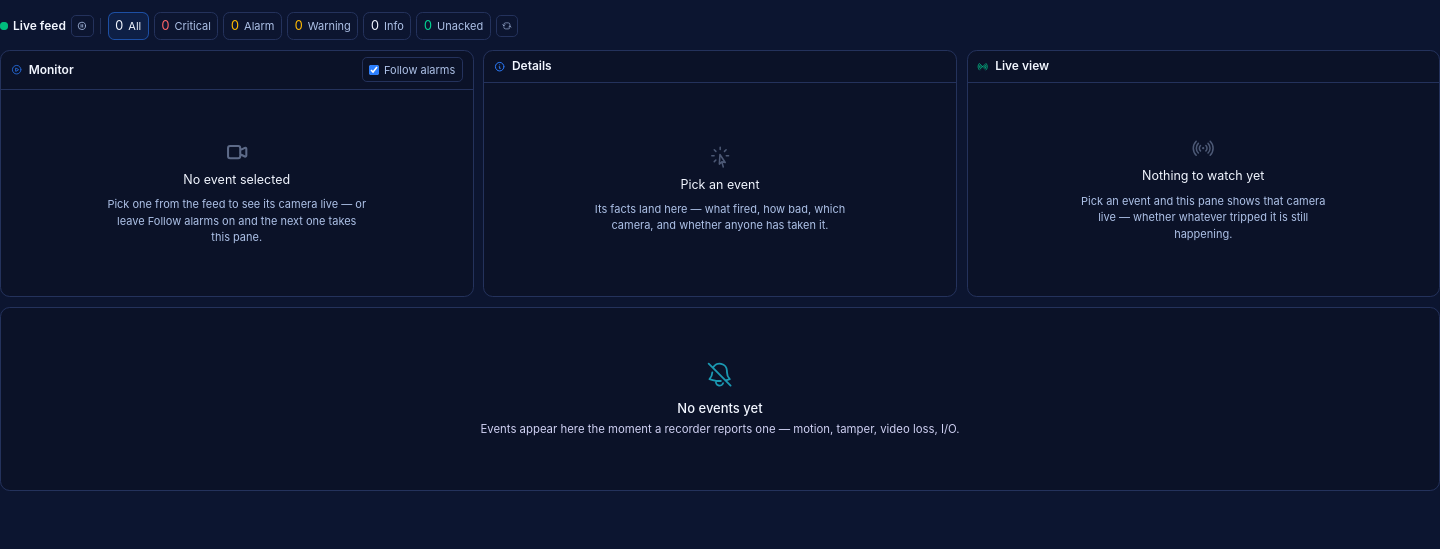
an empty feed › says the filters are hiding things, and offers to clear them
Expected: the text "Live feed" is shown, [13,17,66,35]
Click the button "0 Critical": (186, 26) [154,12,218,40]
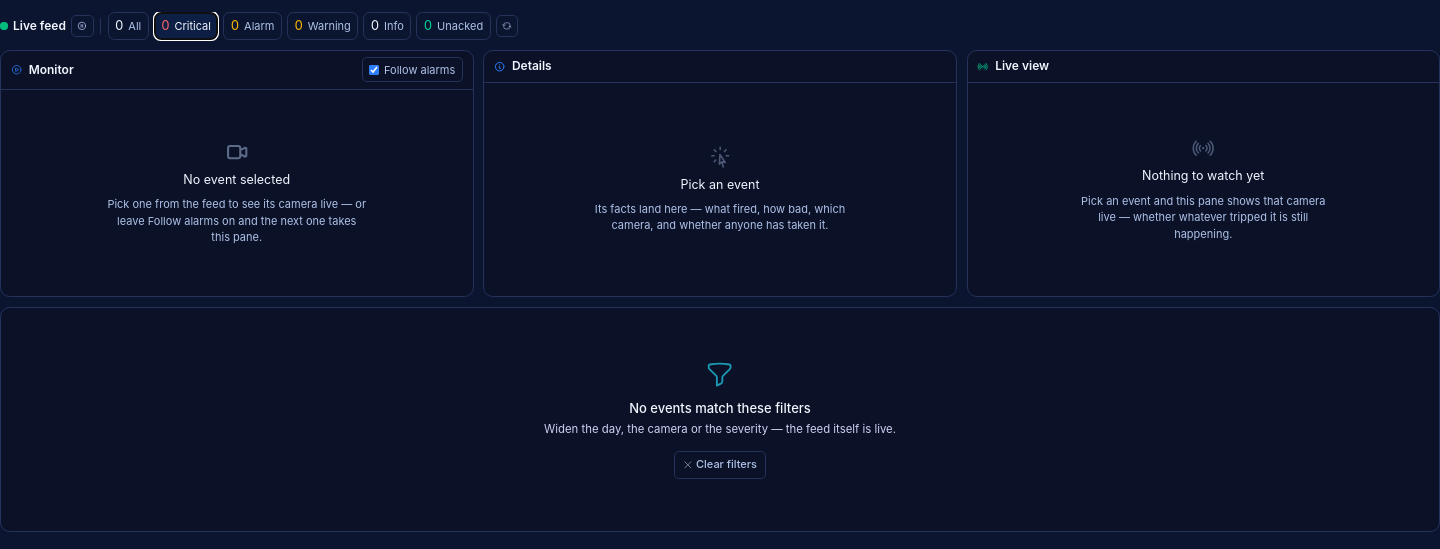
Expected: the text "No events match these filters" is shown, [629,398,811,418]
Expected: the button "Clear filters" is shown, [674,450,766,479]
